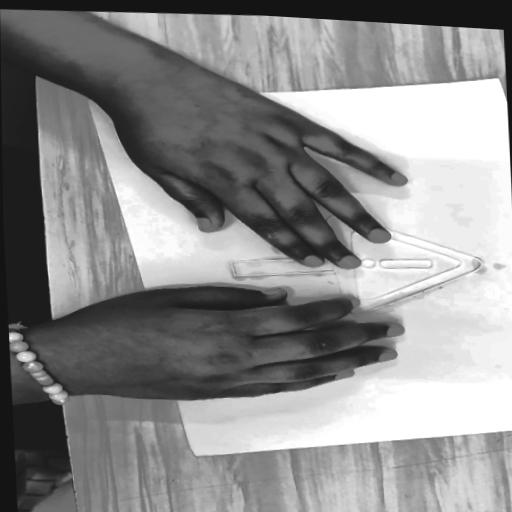bottom_left: (77, 91, 101, 106)
bottom_right: (188, 449, 208, 462)
signboard: (181, 207, 499, 336)
top_left: (491, 76, 505, 82)
